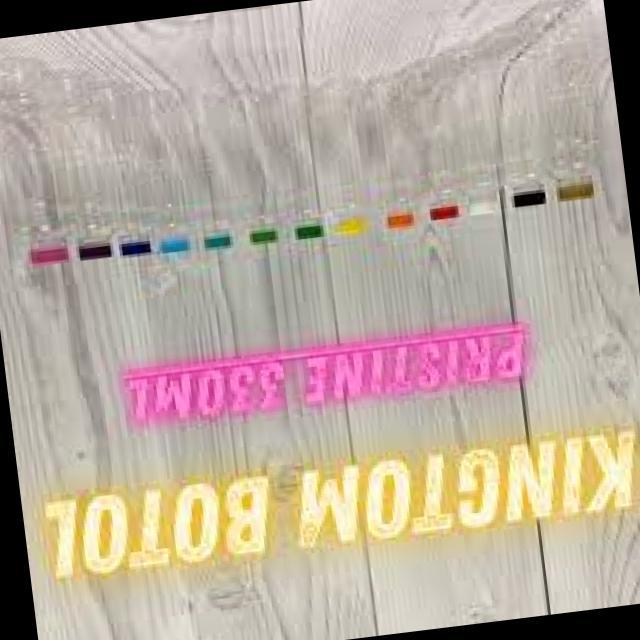good: (110, 56, 207, 270), (427, 10, 522, 228), (469, 3, 566, 216), (523, 0, 617, 208), (202, 68, 304, 256), (390, 32, 480, 240), (34, 61, 124, 269), (0, 55, 80, 276), (291, 58, 382, 251), (166, 68, 255, 262), (80, 71, 164, 261), (254, 62, 338, 250), (346, 51, 429, 236)
